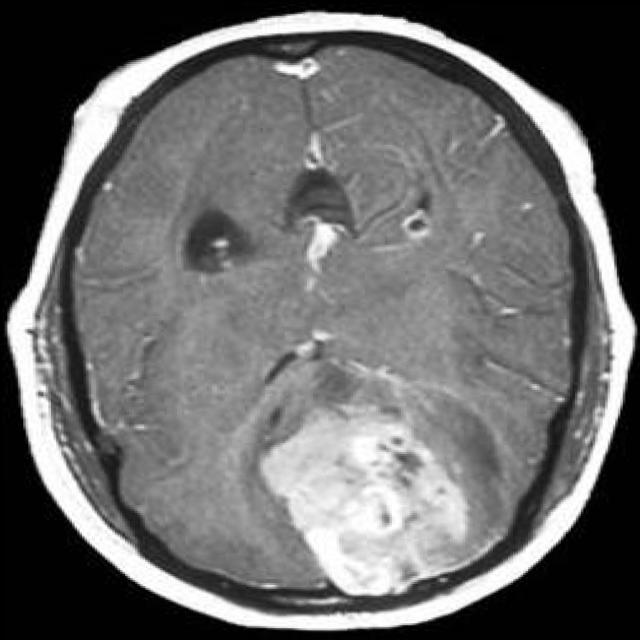Tumor: (260, 406, 469, 593)
